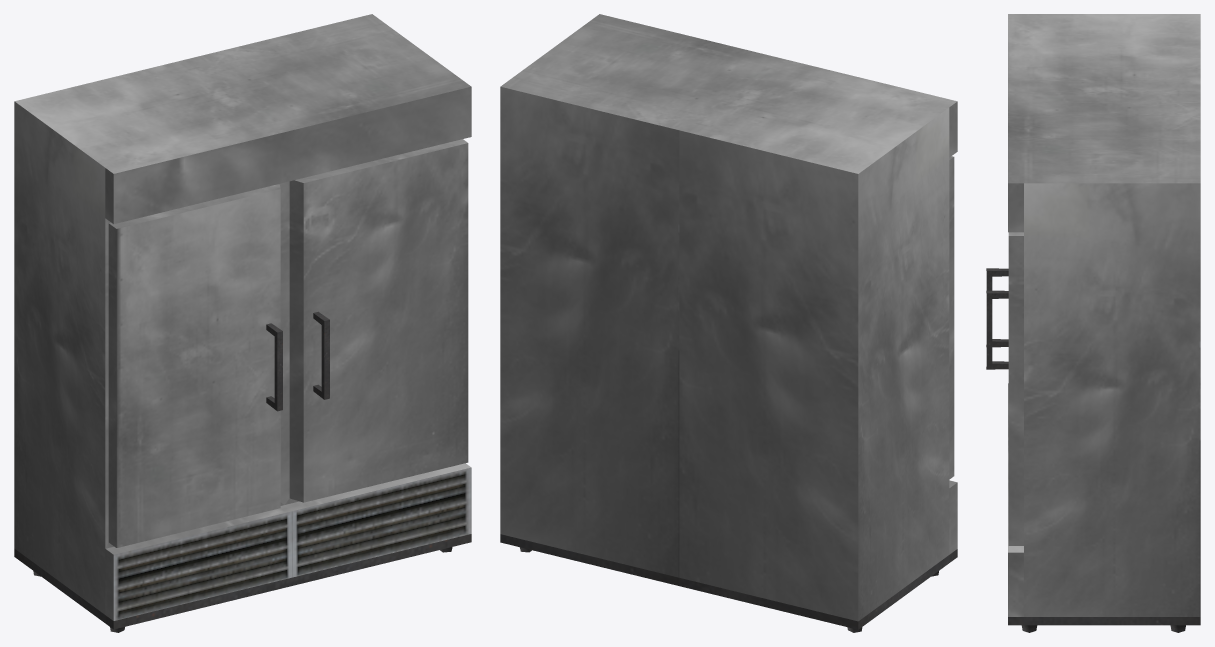
File: Refrijerator .dae
3 renders of one model, left to right at view 1: azimuth 30°, elevation 25°; view 2: azimuth 150°, elevation 25°; view 3: azimuth 270°, elevation 25°, orthographic. The views are drawn at different scales.
Parts seen in each view (by area): view 1: Refrijerator; view 2: Refrijerator; view 3: Refrijerator.
Boxes of the visible parts, left/top/right/bottom form: Refrijerator: left=14, top=14, right=471, bottom=632; Refrijerator: left=500, top=14, right=957, bottom=632; Refrijerator: left=986, top=14, right=1200, bottom=632.
Size of the model in its own units: 2.21 by 1.18 by 2.77.
1 material, 1 textured.
